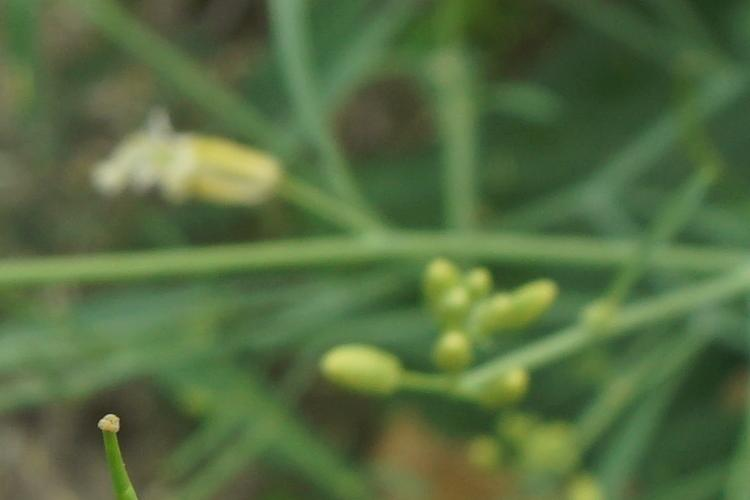bud: (317, 336, 412, 405), (496, 267, 575, 347), (458, 367, 534, 409), (462, 285, 515, 342), (423, 327, 481, 375), (426, 251, 466, 297), (443, 285, 473, 333), (461, 267, 500, 302)
pod: (77, 401, 154, 500)
